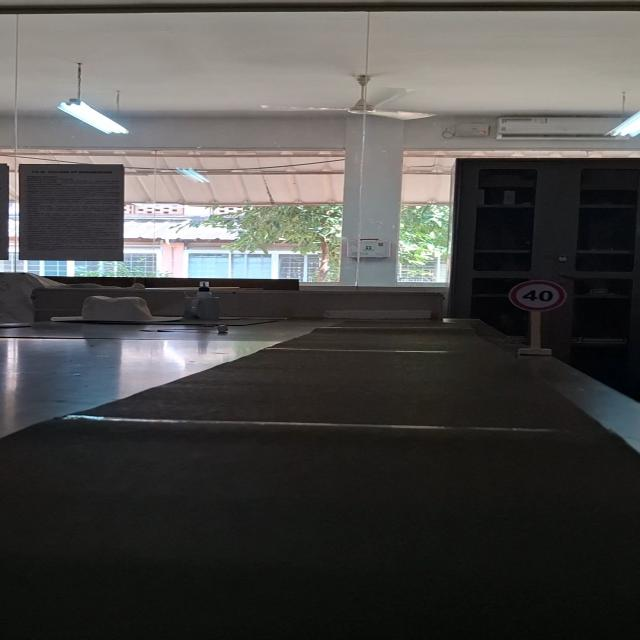Speed40: (508, 278, 567, 313)
